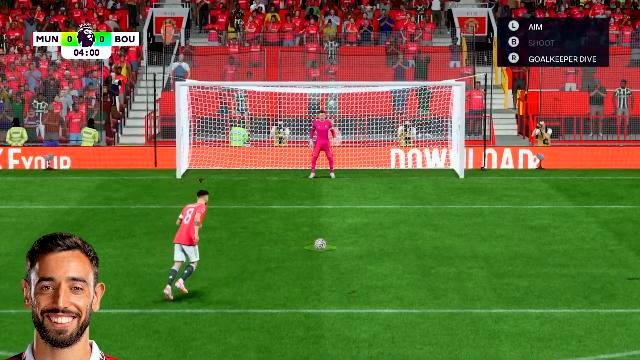bottom-left: (180, 132, 280, 178)
bottom-right: (369, 132, 461, 178)
center-down: (282, 132, 368, 178)
center-up: (280, 86, 368, 132)
circle: (305, 245, 337, 251)
football: (313, 238, 327, 248)
goalkeeper: (304, 110, 336, 182)
player: (161, 189, 213, 305)
top-left: (180, 86, 280, 132)
top-right: (369, 86, 461, 132)
